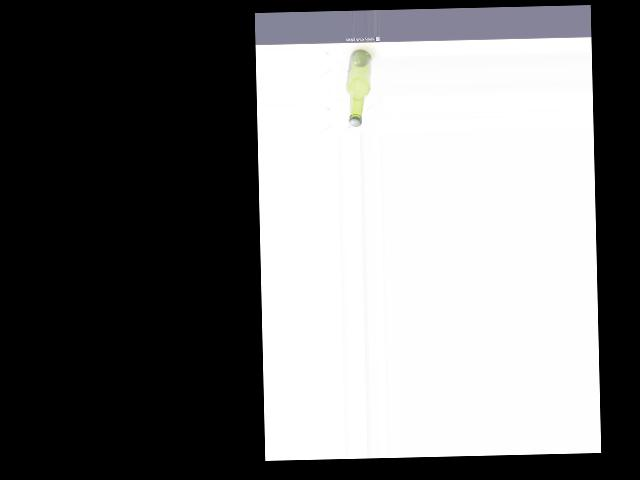beer: (346, 49, 372, 127)
